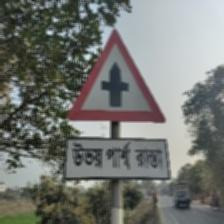Crossroad: (63, 29, 169, 223)
